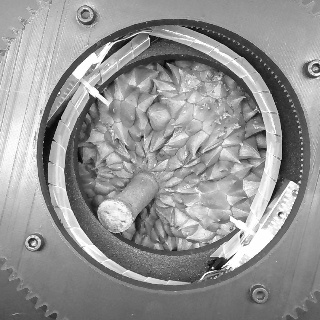base: (132, 170, 164, 195)
end: (97, 199, 133, 234)
